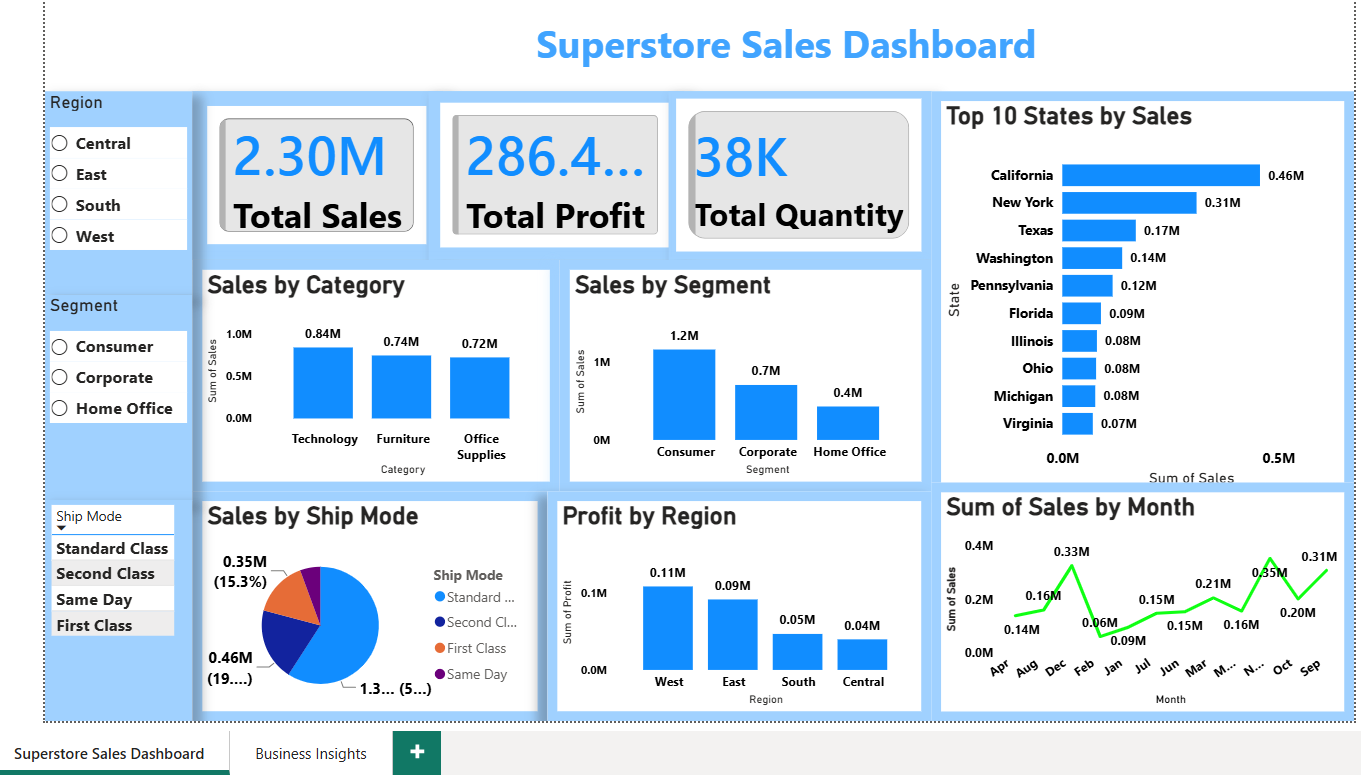

The page's visual inventory and layout, read from the dashboard file:
{"tool":"powerbi","page":{"name":"Superstore Sales Dashboard ","canvas":[1280,720],"ordinal":0},"visuals":[{"type":"cardVisual","fields":{"Data":["Sum(Sample_ Superstore.Sales)"]},"box":[144.3,103.9,244.6,165.1],"z":0},{"type":"cardVisual","fields":{"Data":["Sum(Sample_ Superstore.Profit)"]},"box":[374.8,103.9,249.5,165.1],"z":1000},{"type":"cardVisual","fields":{"Data":["Sum(Sample_ Superstore.Quantity)"]},"box":[610.2,103.9,256.8,165.1],"z":2000},{"type":"clusteredColumnChart","title":"Sales by Category","fields":{"Y":["Sum(Sample_ Superstore.Sales)"],"Category":["Sample_ Superstore.Category"]},"box":[144.3,269,359.5,226.2],"z":3000},{"type":"clusteredColumnChart","title":"Sales by Segment","fields":{"Y":["Sum(Sample_ Superstore.Sales)"],"Category":["Sample_ Superstore.Segment"]},"box":[503.8,269,363.2,226.2],"z":4000},{"type":"pieChart","title":" Sales by Ship Mode","fields":{"Y":["Sum(Sample_ Superstore.Sales)"],"Category":["Sample_ Superstore.Ship Mode"]},"box":[144.3,495.2,347.3,225],"z":5000},{"type":"clusteredColumnChart","title":"Profit by Region ","fields":{"Y":["Sum(Sample_ Superstore.Profit)"],"Category":["Sample_ Superstore.Region"]},"box":[491.6,495.2,375.4,225],"z":6000},{"type":"barChart","title":"Top 10 States by Sales","fields":{"Y":["Sum(Sample_ Superstore.Sales)"],"Category":["Sample_ Superstore.State"]},"box":[867,103.9,413.3,402.3],"z":7000},{"type":"lineChart","fields":{"Y":["Sum(Sample_ Superstore.Sales)"],"Category":["Sample_ Superstore.Month"]},"box":[867,486.7,413.3,233.6],"z":8000},{"type":"textbox","box":[408.4,26.9,633.4,68.5],"z":9000},{"type":"listSlicer","fields":{"Values":["Sample_ Superstore.Region"]},"box":[0,103.9,144.3,199.3],"z":10000},{"type":"listSlicer","fields":{"Values":["Sample_ Superstore.Segment"]},"box":[0,303.3,144.3,200.5],"z":11000},{"type":"tableEx","fields":{"Values":["Sample_ Superstore.Ship Mode"]},"box":[0,503.8,144.3,216.4],"z":12000}]}

Visuals, with their boxes on the page's 1280x720 design canvas (x1, y1, x2, y2). These are canvas units, not pixel positions in the 1361x775 screenshot, which may show the page scaled, cropped or inside an application window:
cardVisual - Sum(Sample_ Superstore.Sales): bbox(144, 104, 389, 269)
cardVisual - Sum(Sample_ Superstore.Profit): bbox(375, 104, 624, 269)
cardVisual - Sum(Sample_ Superstore.Quantity): bbox(610, 104, 867, 269)
"Sales by Category" clusteredColumnChart: bbox(144, 269, 504, 495)
"Sales by Segment" clusteredColumnChart: bbox(504, 269, 867, 495)
" Sales by Ship Mode" pieChart: bbox(144, 495, 492, 720)
"Profit by Region " clusteredColumnChart: bbox(492, 495, 867, 720)
"Top 10 States by Sales" barChart: bbox(867, 104, 1280, 506)
lineChart - Sum(Sample_ Superstore.Sales) x Sample_ Superstore.Month: bbox(867, 487, 1280, 720)
textbox: bbox(408, 27, 1042, 95)
listSlicer - Sample_ Superstore.Region: bbox(0, 104, 144, 303)
listSlicer - Sample_ Superstore.Segment: bbox(0, 303, 144, 504)
tableEx - Sample_ Superstore.Ship Mode: bbox(0, 504, 144, 720)
